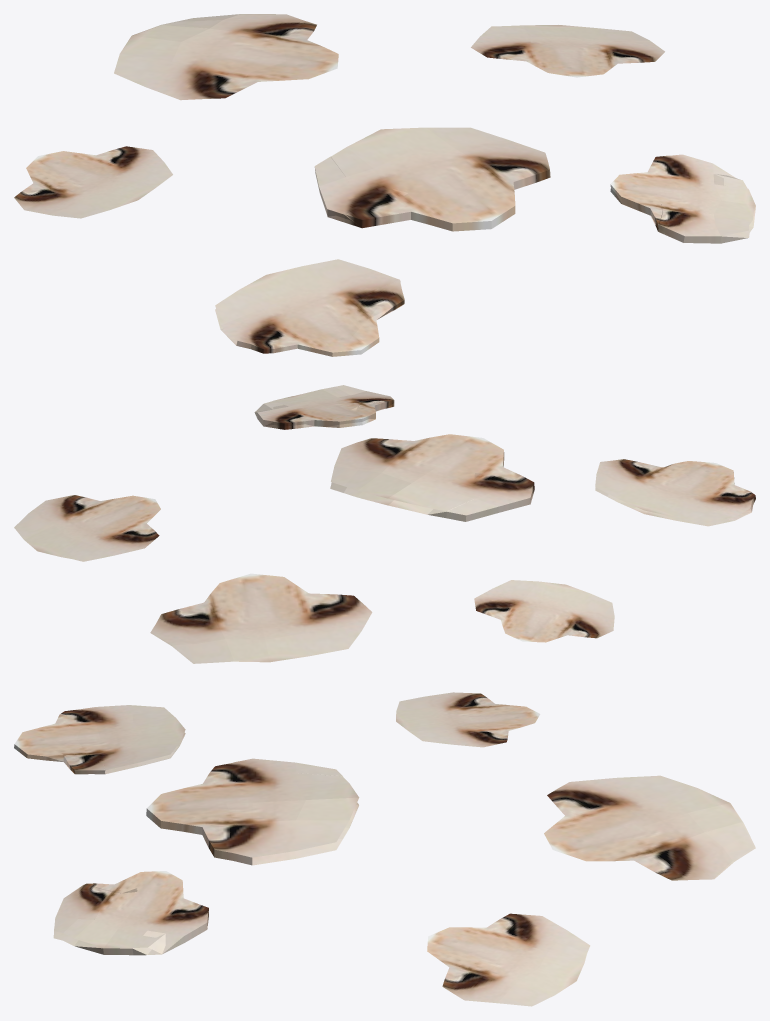
Rendered from mushies.obj.
The picture shows the model from 3 angles, top to bottom: view 1: azimuth 30°, elevation 25°; view 2: azimuth 150°, elevation 25°; view 3: azimuth 270°, elevation 25°; orthographic projection. The views are drawn at different scales.
Visible parts, largest first — view 1: Plane_Plane_Material.001, Plane_Plane_Material.002; view 2: Plane_Plane_Material.001, Plane_Plane_Material.002; view 3: Plane_Plane_Material.001, Plane_Plane_Material.002.
Part boxes in pixels (x1,y1,x2,y2): Plane_Plane_Material.001: (14, 25, 755, 356); Plane_Plane_Material.002: (114, 14, 338, 100); Plane_Plane_Material.001: (14, 385, 755, 642); Plane_Plane_Material.002: (150, 573, 372, 663); Plane_Plane_Material.001: (14, 692, 590, 1006); Plane_Plane_Material.002: (544, 775, 755, 880).
Size of the model in its own units: 1.42 by 0.1059 by 1.46.
